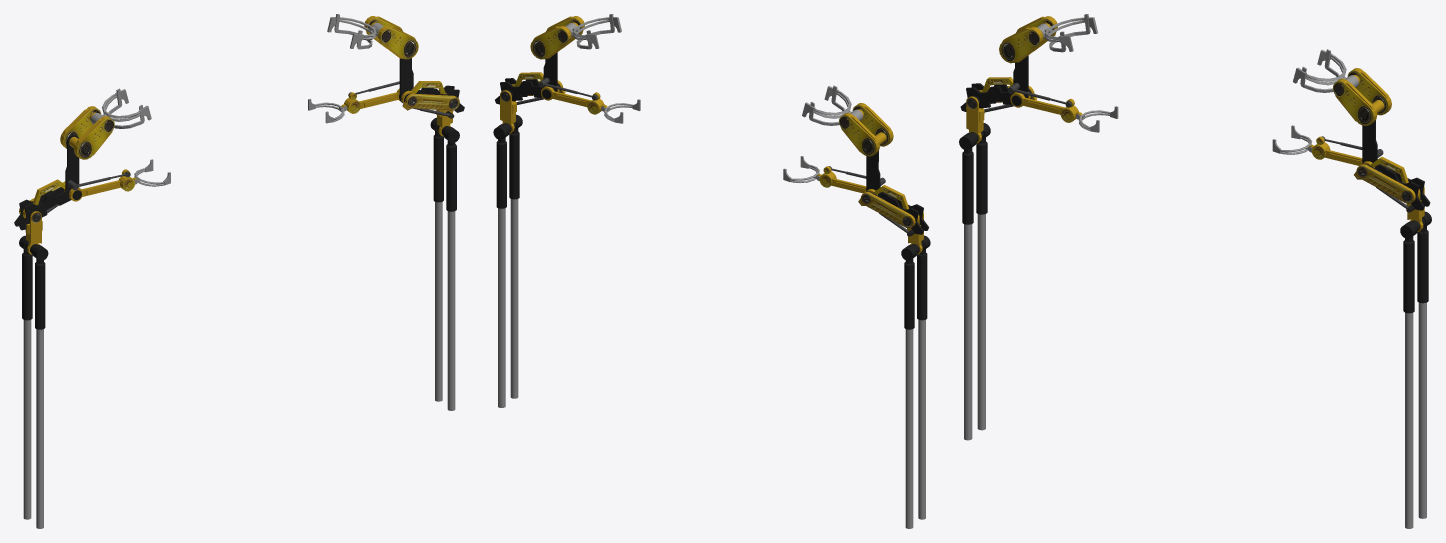
Rendered from ironman_arm_robot2.dae.
The picture shows the model from 3 angles, left to right: view 1: azimuth 30°, elevation 25°; view 2: azimuth 150°, elevation 25°; view 3: azimuth 330°, elevation 25°; orthographic projection. The views are drawn at different scales.
Parts seen in each view (by area): view 1: instance_3 (×4), instance_2 (×6), instance_4 (×3); view 2: instance_3 (×4), instance_2 (×5), instance_4 (×3); view 3: instance_3 (×4), instance_2 (×6), instance_4 (×4).
Part boxes in pixels (left/top/right/bottom): instance_3 (×4): left=23, top=202, right=455, bottom=528; instance_2 (×6): left=19, top=135, right=456, bottom=329; instance_4 (×3): left=77, top=28, right=459, bottom=159; instance_3 (×4): left=498, top=199, right=925, bottom=528; instance_2 (×5): left=495, top=81, right=927, bottom=329; instance_4 (×3): left=530, top=28, right=913, bottom=228; instance_3 (×4): left=964, top=214, right=1426, bottom=528; instance_2 (×6): left=960, top=86, right=1428, bottom=313; instance_4 (×4): left=999, top=29, right=1413, bottom=203.
Size of the model in its own units: 126 by 13.83 by 117.
Materials: 5 (1 with a texture image).
